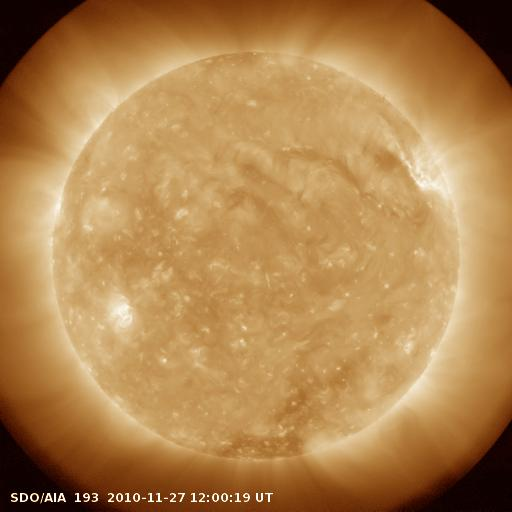coronal_hole: (208, 426, 306, 464), (366, 139, 406, 172)
